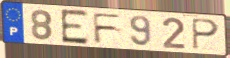2: (162, 16, 187, 50)
8: (29, 9, 55, 42)
9: (129, 15, 152, 47)
E: (59, 8, 90, 46)
F: (91, 12, 124, 45)
P: (190, 17, 221, 51)
